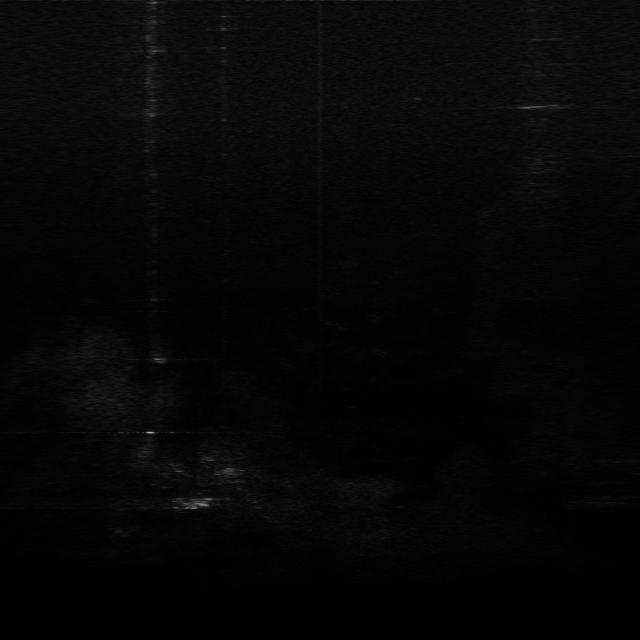rov: (173, 494, 219, 514)
